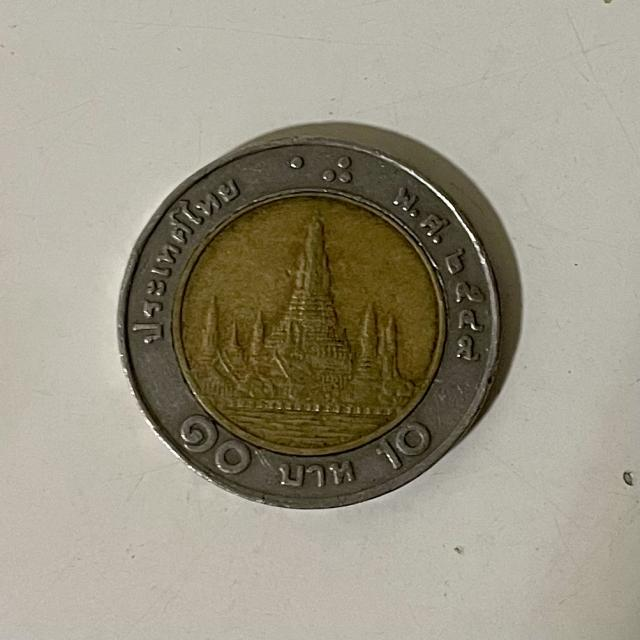10 Bath: (107, 128, 513, 522)
